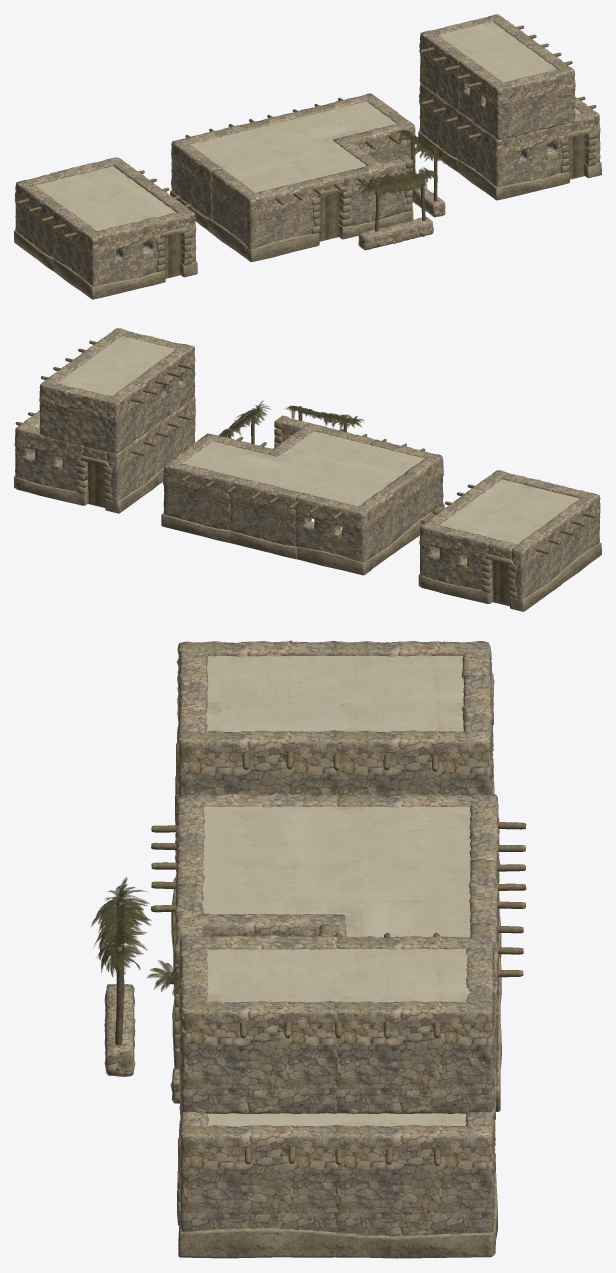
Rendered from ancient_houses.glb.
3 views of the same model, one above another, from view 1: azimuth 30°, elevation 25°; view 2: azimuth 150°, elevation 25°; view 3: azimuth 270°, elevation 25° (orthographic). The views are drawn at different scales.
Visible parts, largest first — view 1: Walls_LOD0_WallStones_0, Roof_LOD0_Floor_0, Walls_LOD0_Wall_0, Door_LOD0_Door_0, Poles_LOD0_Extras_0, Palm_LOD0_Palm_0; view 2: Walls_LOD0_WallStones_0, Roof_LOD0_Floor_0, Walls_LOD0_Wall_0, Poles_LOD0_Extras_0, Door_LOD0_Door_0, Palm_LOD0_Palm_0; view 3: Walls_LOD0_WallStones_0, Roof_LOD0_Floor_0, Walls_LOD0_Wall_0, Poles_LOD0_Extras_0, Palm_LOD0_Palm_0.
Boxes of the visible parts, bbox=[...] form: Walls_LOD0_WallStones_0: bbox=[14, 14, 601, 299]; Roof_LOD0_Floor_0: bbox=[34, 22, 581, 231]; Walls_LOD0_Wall_0: bbox=[27, 58, 589, 285]; Door_LOD0_Door_0: bbox=[164, 134, 585, 278]; Poles_LOD0_Extras_0: bbox=[16, 25, 596, 247]; Palm_LOD0_Palm_0: bbox=[356, 130, 450, 198]; Walls_LOD0_WallStones_0: bbox=[14, 328, 601, 611]; Roof_LOD0_Floor_0: bbox=[33, 335, 579, 544]; Walls_LOD0_Wall_0: bbox=[15, 344, 596, 589]; Poles_LOD0_Extras_0: bbox=[15, 340, 596, 553]; Door_LOD0_Door_0: bbox=[87, 462, 509, 606]; Palm_LOD0_Palm_0: bbox=[218, 400, 364, 438]; Walls_LOD0_WallStones_0: bbox=[171, 640, 501, 1258]; Roof_LOD0_Floor_0: bbox=[202, 655, 470, 1126]; Walls_LOD0_Wall_0: bbox=[104, 643, 500, 1223]; Poles_LOD0_Extras_0: bbox=[115, 640, 526, 1165]; Palm_LOD0_Palm_0: bbox=[91, 877, 179, 997].
Bounding box in the file's own units: 29.37 × 6.05 × 10.43.
Materials: 7 (7 with a texture image).
